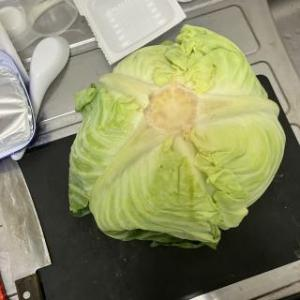cabbage: (66, 23, 286, 254)
